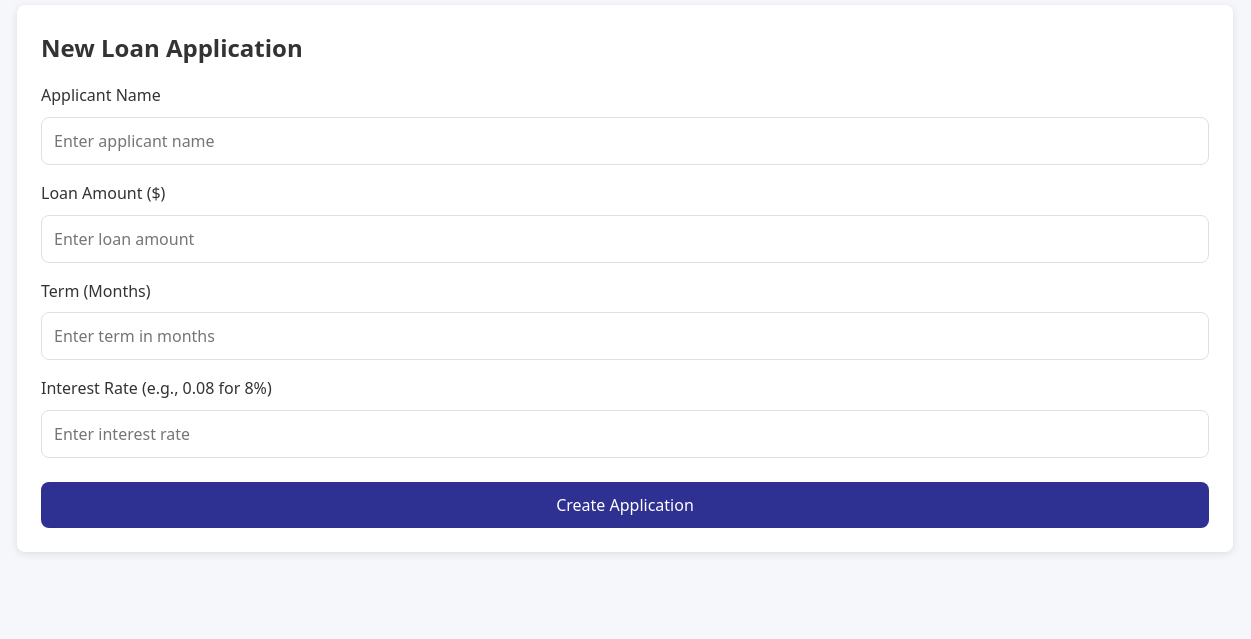
Test case: LoanForm › shows error for amount <= 0
Type "John Doe" into the field with id "applicantName" at (625, 141), box x1=41 y1=117 x2=1209 y2=165
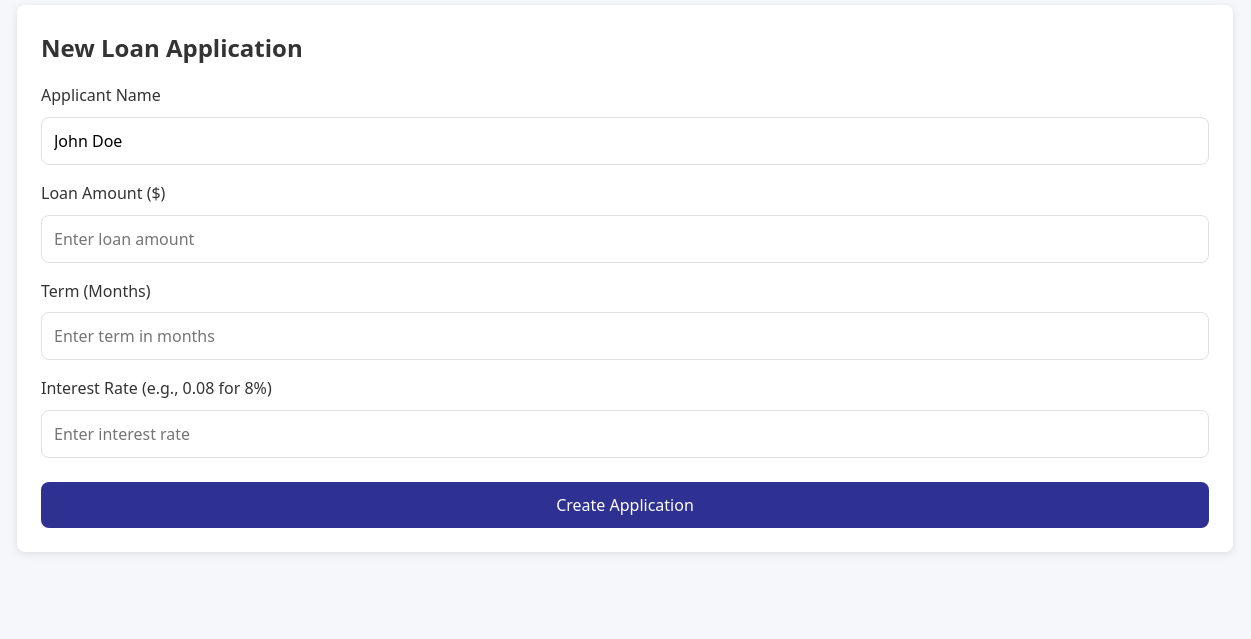
Type "0" into the number field with id "amount" at (625, 239), box x1=41 y1=215 x2=1209 y2=263
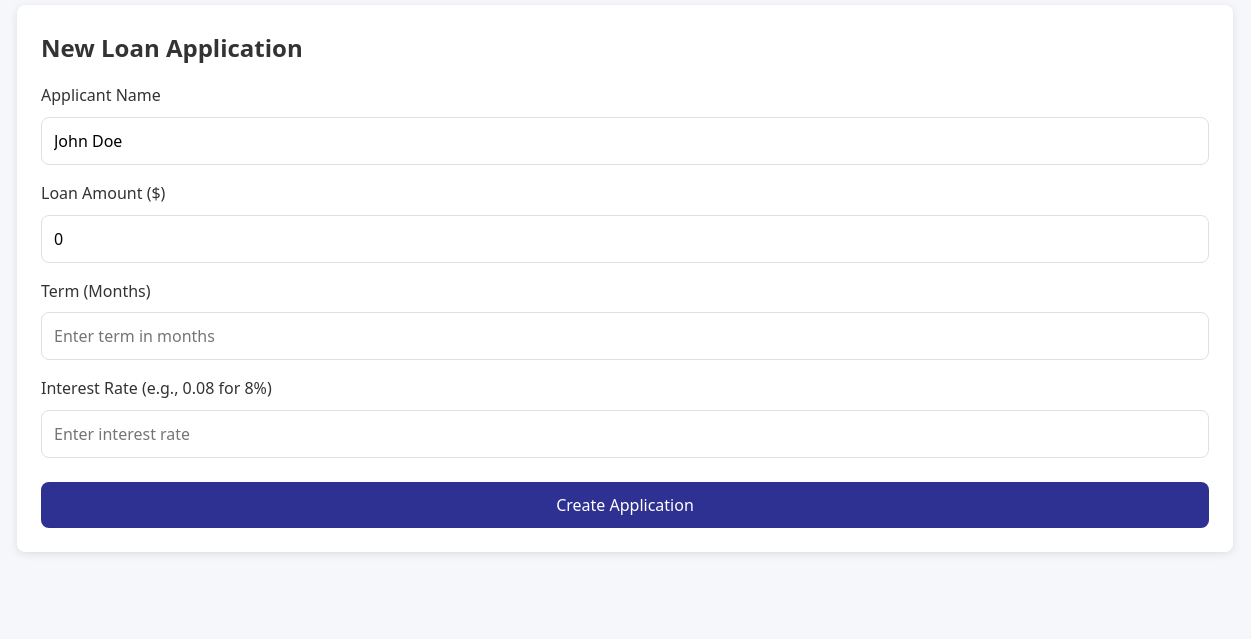
Type "24" into the number field with id "termMonths" at (625, 336), box x1=41 y1=312 x2=1209 y2=360
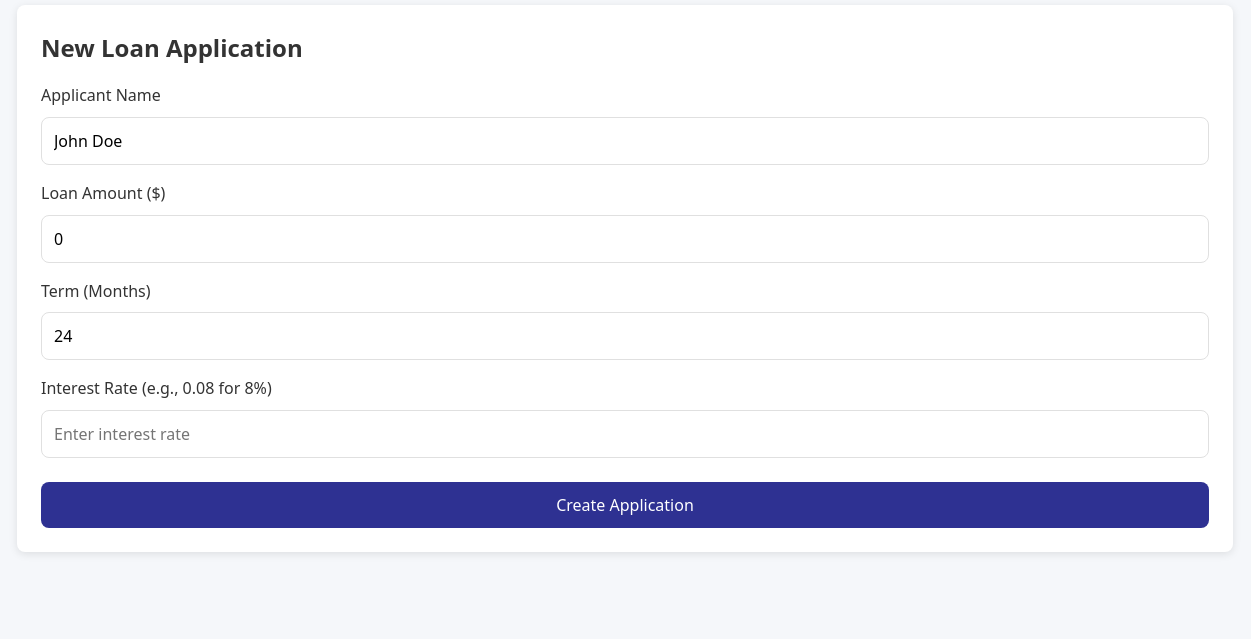
Type "0.08" into the number field with id "interestRate" at (625, 434), box x1=41 y1=410 x2=1209 y2=458
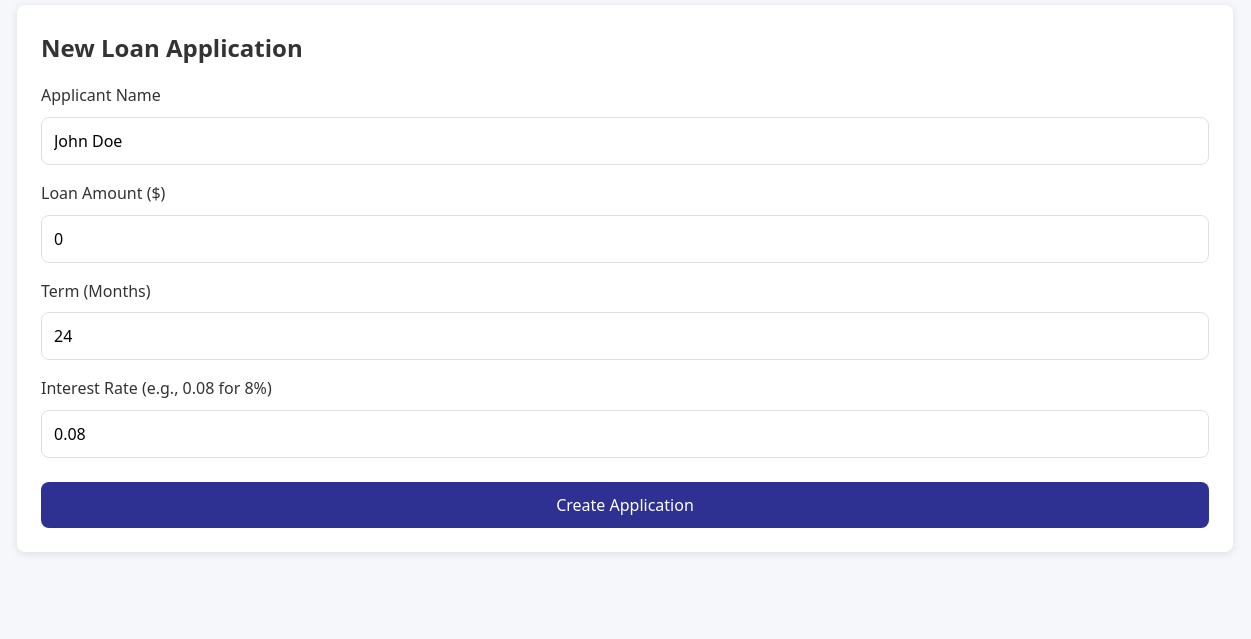
Submit the form
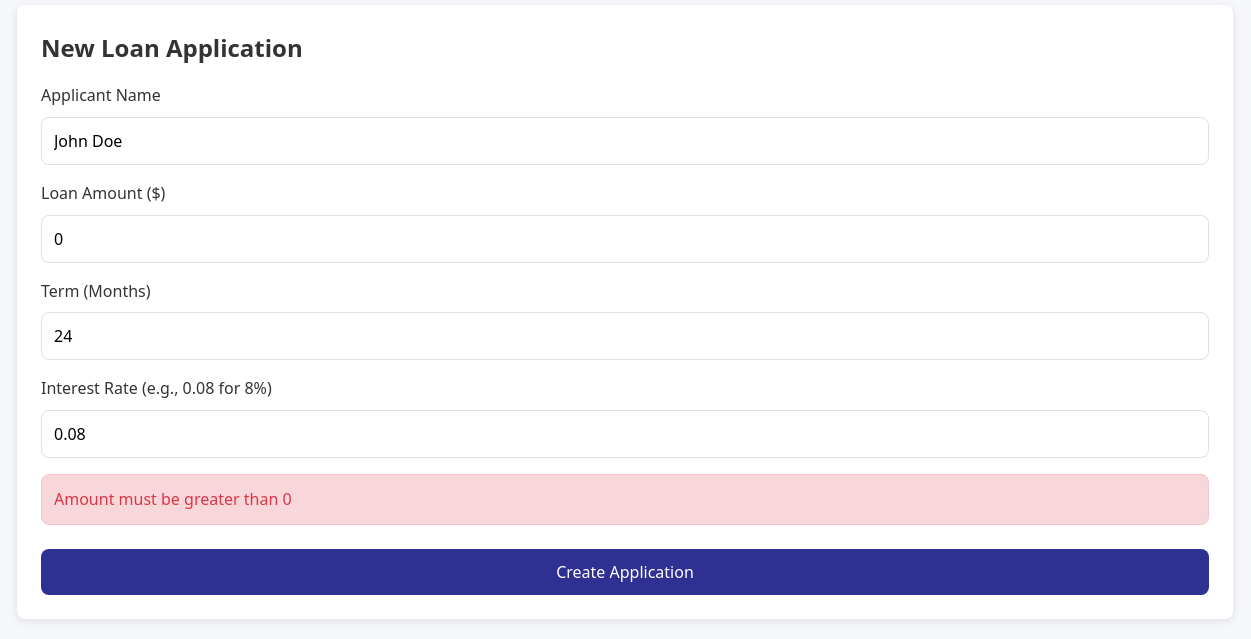
Now the text "Amount must be greater than 0" is shown, box x1=41 y1=474 x2=1209 y2=525
Now the text with class "error-message" reads "Amount must be greater than 0", box x1=54 y1=488 x2=292 y2=510
